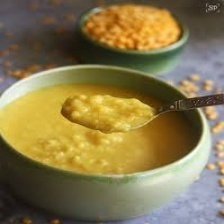dal: (0, 76, 202, 180)
